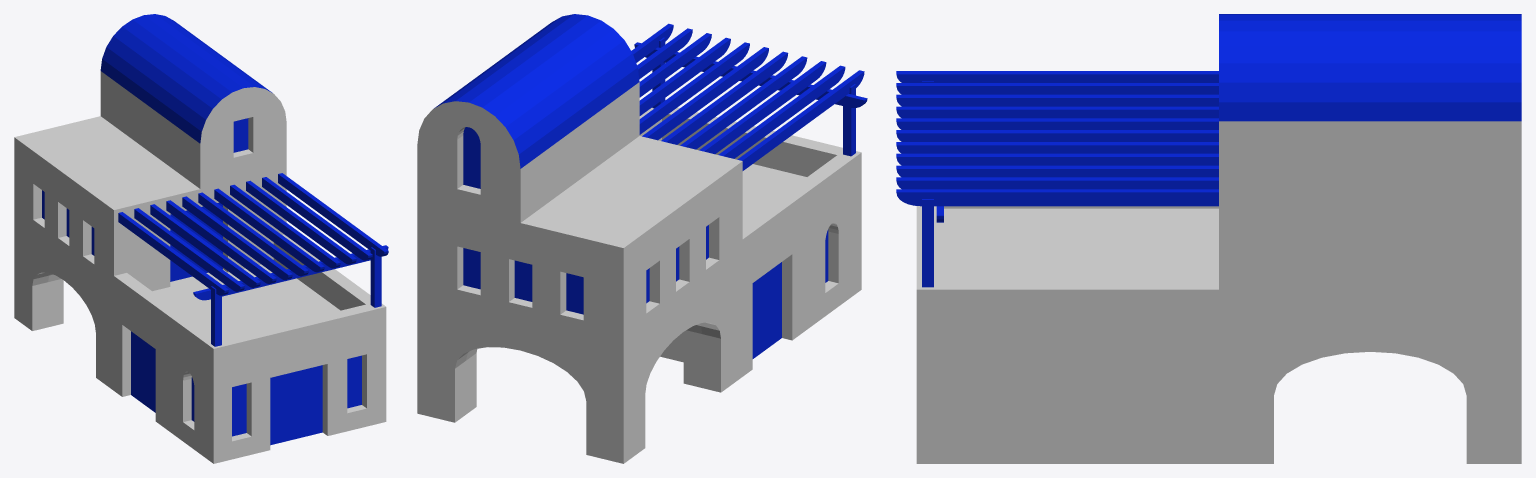
Rendered from SM_Module4_001.fbx.
3 renders of one model, left to right at view 1: azimuth 30°, elevation 25°; view 2: azimuth 150°, elevation 25°; view 3: azimuth 270°, elevation 25°, orthographic. The views are drawn at different scales.
Parts seen in each view (by area): view 1: Cube.164, 1DF3WS3WB.001, 1WF1WB.010, ARRAY.174, Terasse.005, BigArches.007, Door.061, Door.062, Door.060, ARRAY.173, WIndow2.121, WIndow2.120 (+3 smaller); view 2: 1DF3WS3WB.001, 1WF1WB.010, BigArches.007, ARRAY.174, Cube.164, Terasse.005, Door.062, WIndow2.118, Window3.113, ARRAY.173, ARRAY.171; view 3: Cube.164, 1WF1WB.010, ARRAY.174, 1DF3WS3WB.001, BigArches.007, Terasse.005, ARRAY.172.
Part boxes in pixels (left/top/right/bottom): Cube.164: left=114, top=264, right=386, bottom=463; 1DF3WS3WB.001: left=14, top=116, right=286, bottom=300; 1WF1WB.010: left=100, top=14, right=286, bottom=188; ARRAY.174: left=118, top=173, right=388, bottom=295; Terasse.005: left=114, top=234, right=386, bottom=373; BigArches.007: left=14, top=228, right=113, bottom=390; Door.061: left=270, top=365, right=322, bottom=445; Door.062: left=131, top=331, right=155, bottom=412; Door.060: left=170, top=202, right=222, bottom=281; ARRAY.173: left=193, top=245, right=388, bottom=300; WIndow2.121: left=347, top=355, right=361, bottom=408; WIndow2.120: left=232, top=383, right=246, bottom=436; 1DF3WS3WB.001: left=417, top=136, right=742, bottom=355; 1WF1WB.010: left=417, top=14, right=639, bottom=222; BigArches.007: left=417, top=269, right=742, bottom=463; ARRAY.174: left=631, top=23, right=864, bottom=170; Cube.164: left=660, top=164, right=861, bottom=376; Terasse.005: left=639, top=107, right=861, bottom=268; Door.062: left=752, top=262, right=781, bottom=358; WIndow2.118: left=463, top=248, right=583, bottom=314; Window3.113: left=463, top=127, right=480, bottom=188; ARRAY.173: left=634, top=42, right=867, bottom=107; ARRAY.171: left=843, top=84, right=855, bottom=156; Cube.164: left=916, top=208, right=1218, bottom=463; 1WF1WB.010: left=1219, top=14, right=1521, bottom=189; ARRAY.174: left=896, top=71, right=1218, bottom=206; 1DF3WS3WB.001: left=1219, top=190, right=1521, bottom=326; BigArches.007: left=1219, top=327, right=1521, bottom=463; Terasse.005: left=916, top=206, right=1218, bottom=326; ARRAY.172: left=922, top=199, right=933, bottom=287.
Size of the model in its own units: 558 by 750 by 1033.
